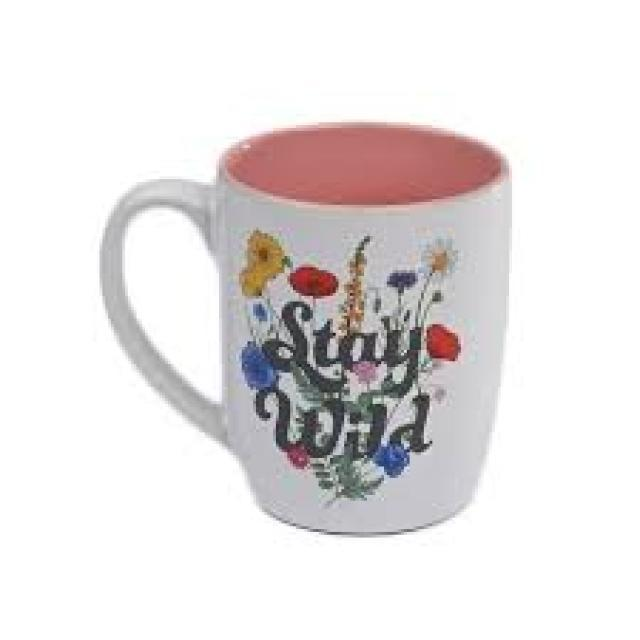taza: (98, 117, 514, 534)
